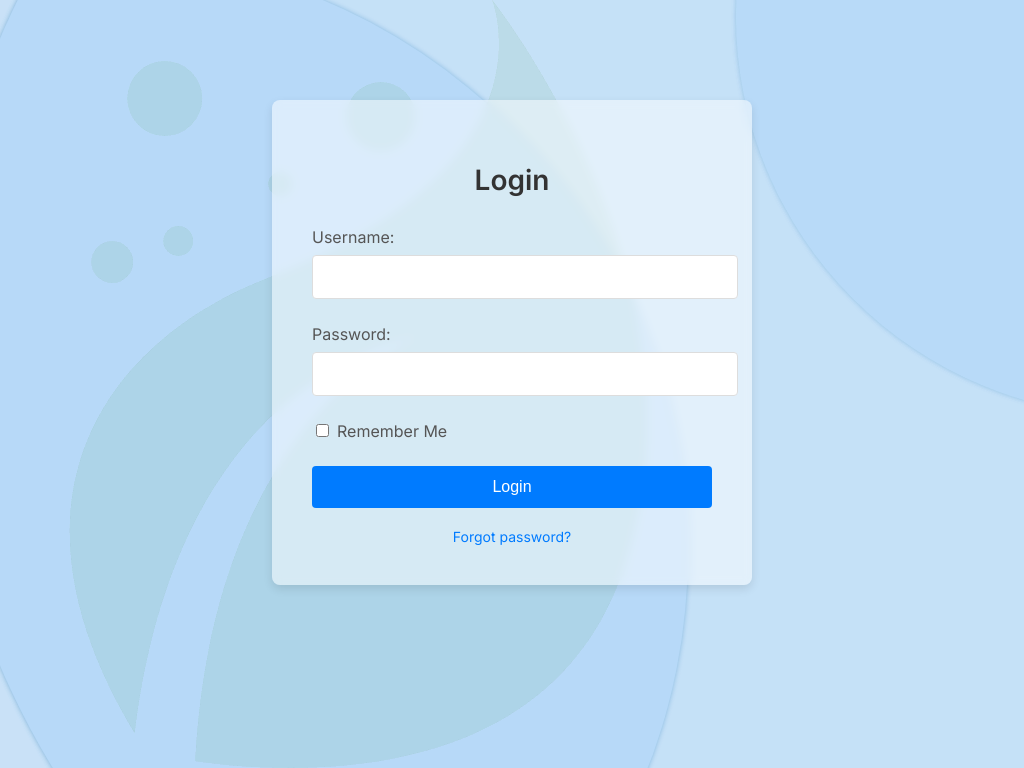
Scenario: Login › displays error message on failed login
In the field labelled "Username:": (525, 277) [312,255,738,299], type "user"
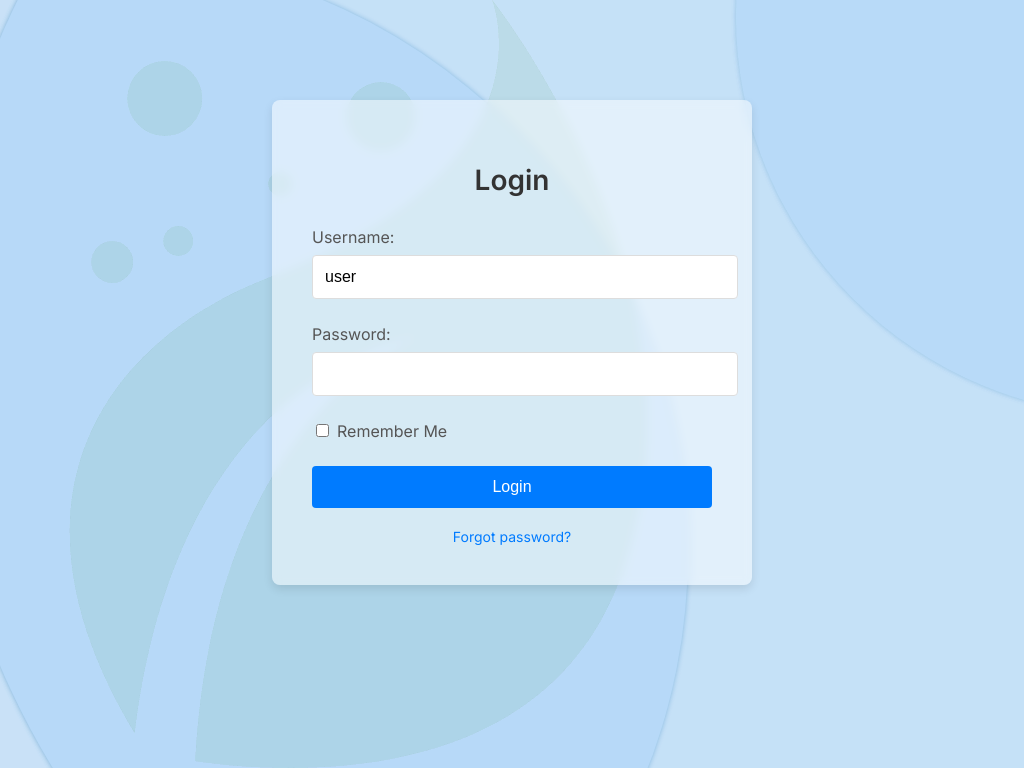
In the password field labelled "Password:": (525, 374) [312,352,738,396], type "wrongpass"
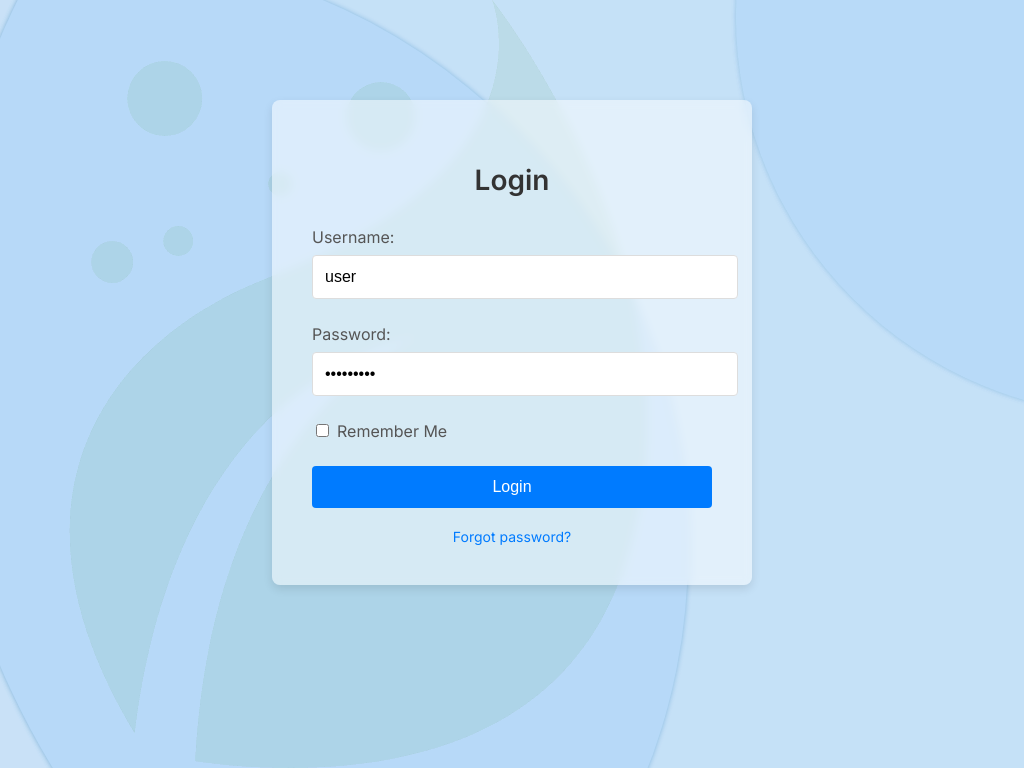
Click the button "Login": click(512, 487) [312,466,712,508]
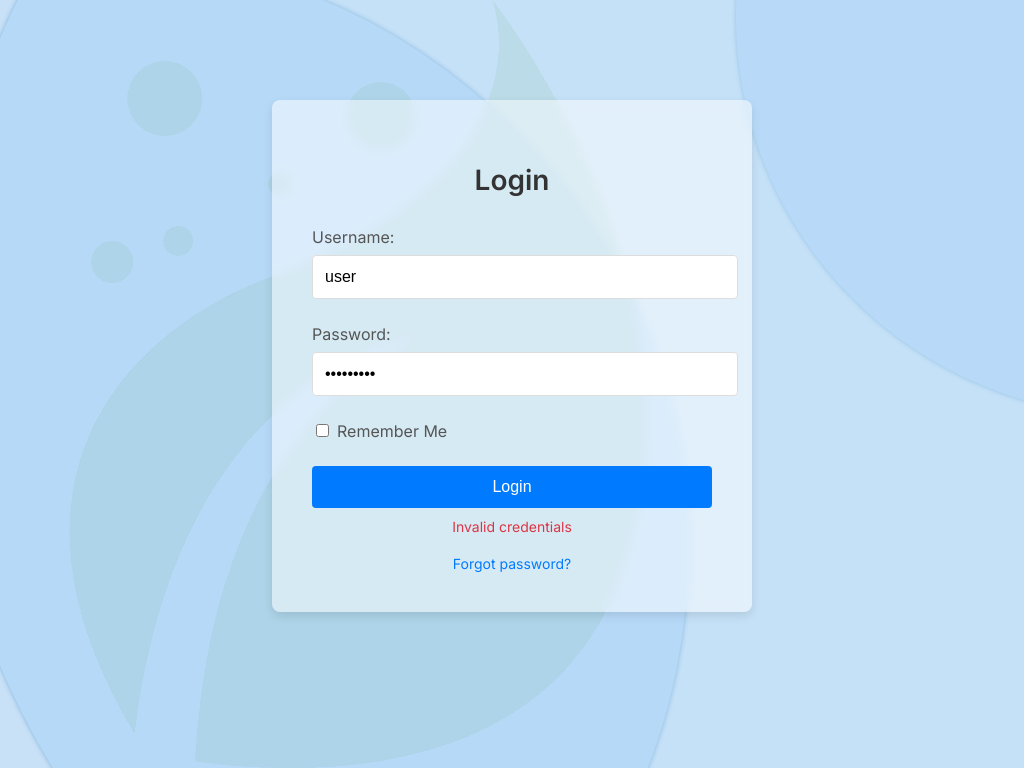
expect the message reads "Invalid credentials": met, box [452,518,572,535]
